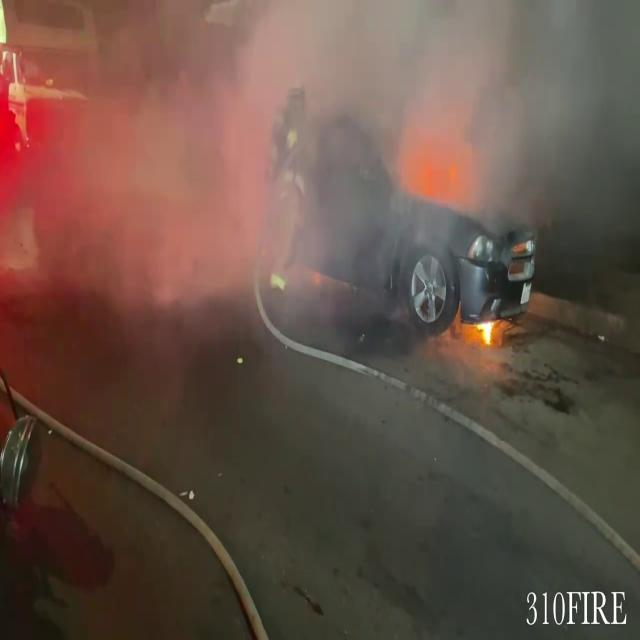Fire: (466, 310, 502, 348)
Smoke: (11, 2, 638, 284)
